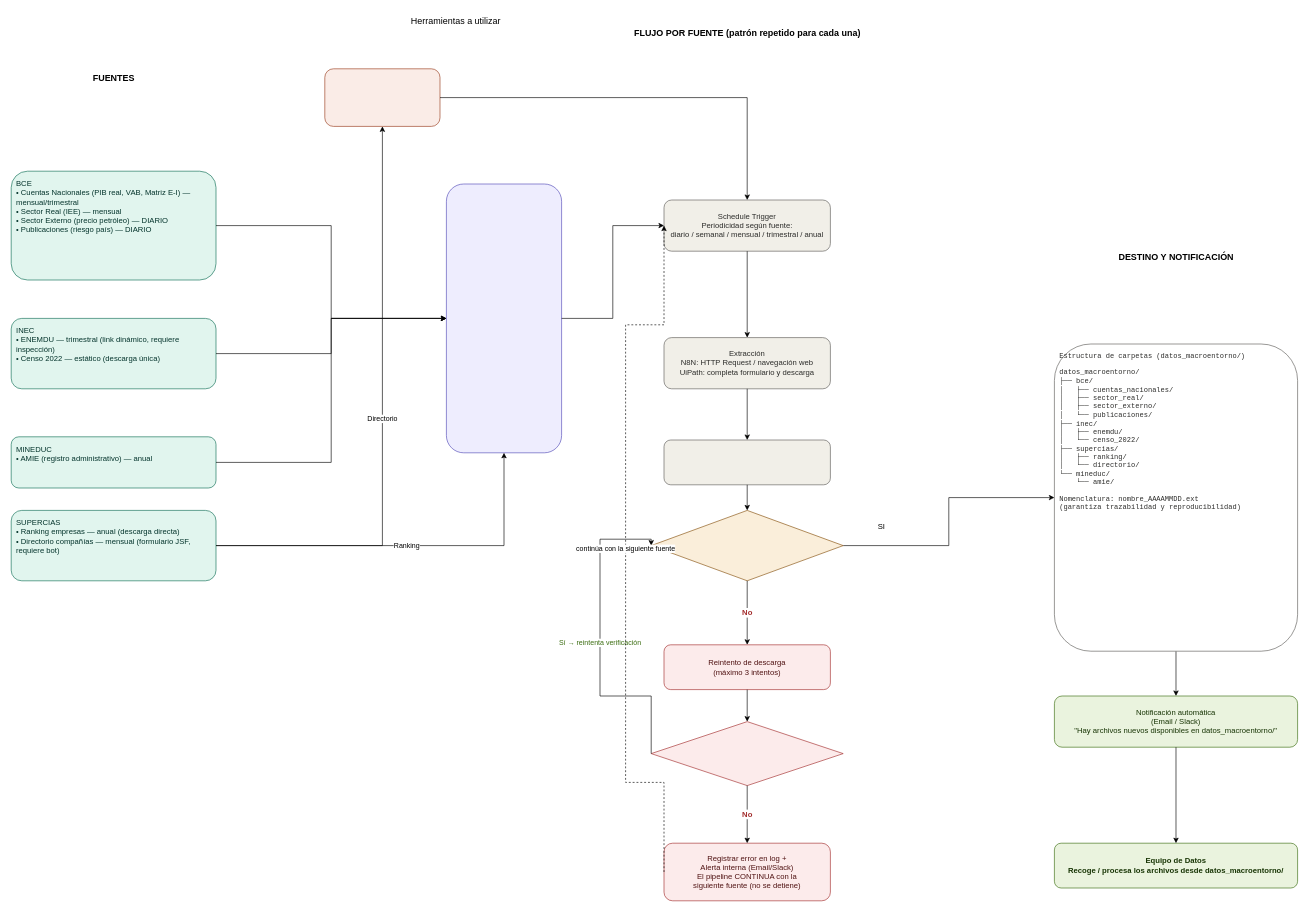
Some shapes in this 1309 by 912 pixel diagram are drawn without their labels. Here are the shapes that lost their labels. From the top down, the centre of each, then its label:
At pixel 382 97: "UiPath Supercias Directorio (robot completa formulario JSF y descarga)".
At pixel 504 318: "N8N 8 fuentes con descarga directa (HTTP Request / scraping simple)".
At pixel 746 462: "Guardar archivo nombre_AAAAMMDD.ext Ej: pib_real_20260512.xlsx".
At pixel 747 545: "¿Archivo válido? (no vacío, formato/extensión esperada)".
At pixel 747 753: "¿Reintento exitoso?".
